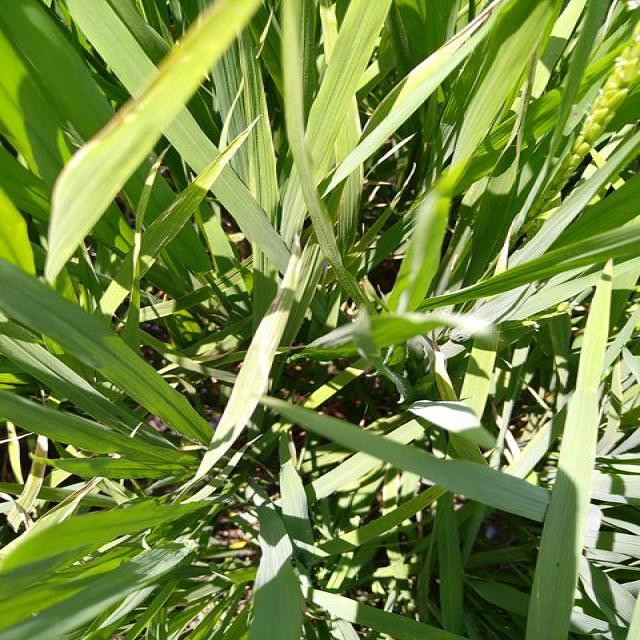Leaf Streak: (44, 0, 264, 287), (193, 235, 301, 481), (140, 118, 259, 258)
